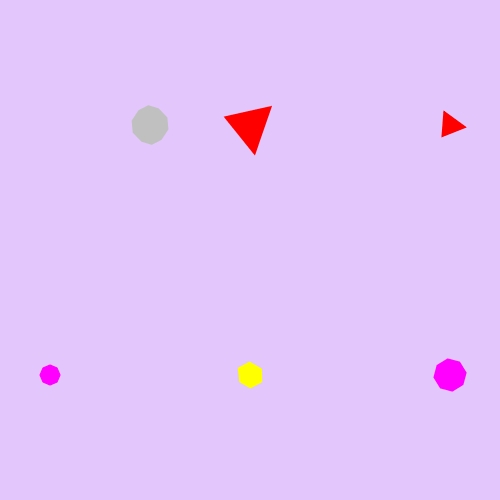decagon: (127, 104, 174, 147)
hexagon: (232, 360, 268, 391)
octagon: (430, 355, 471, 396), (35, 360, 65, 390)
triangle: (225, 98, 276, 152), (434, 108, 467, 142)
